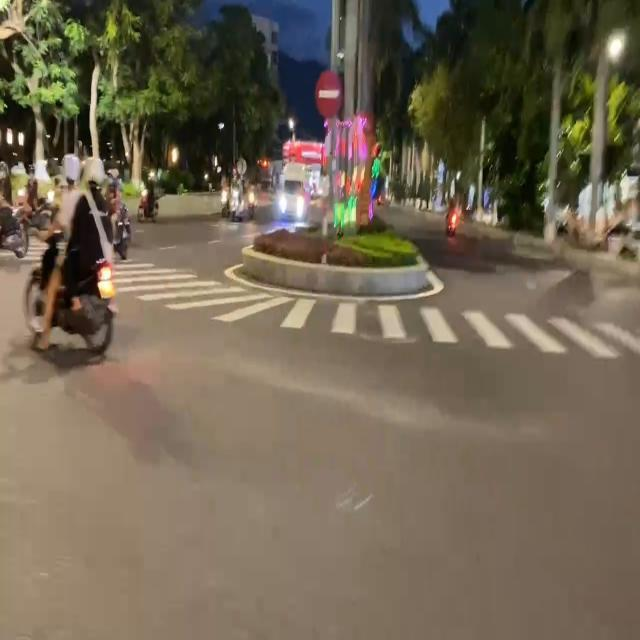walk-crossing: (275, 293, 640, 359), (116, 268, 276, 326)
